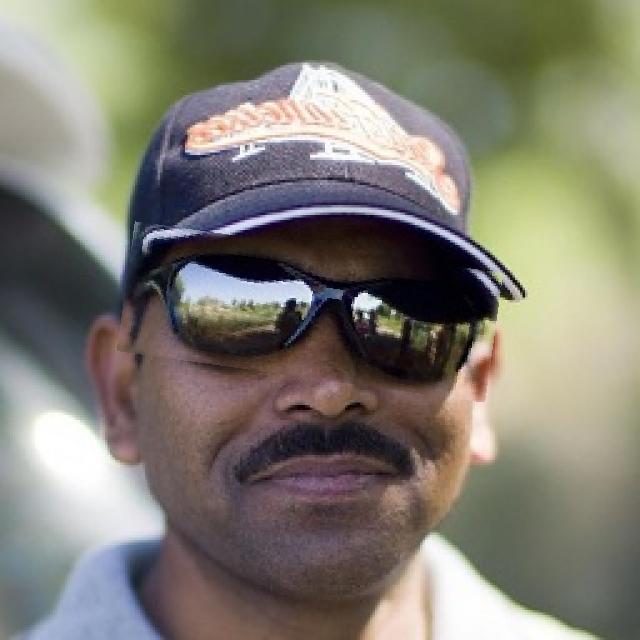glasses: (120, 233, 499, 389)
